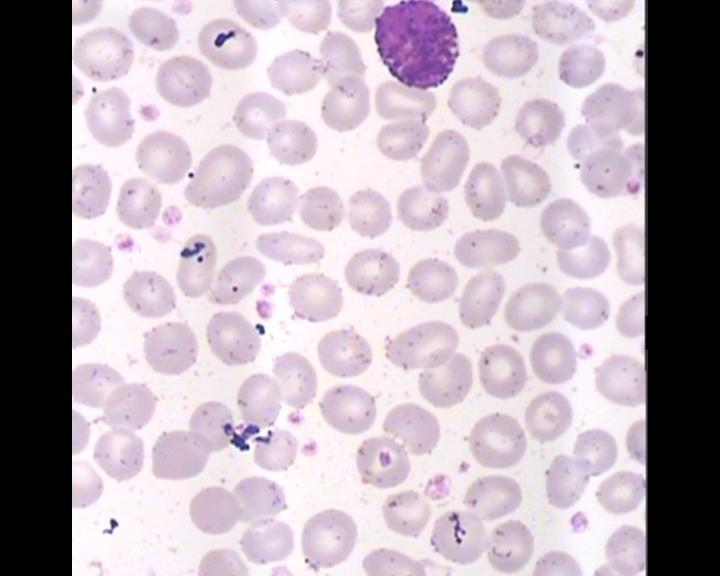baso: (368, 0, 468, 91)
